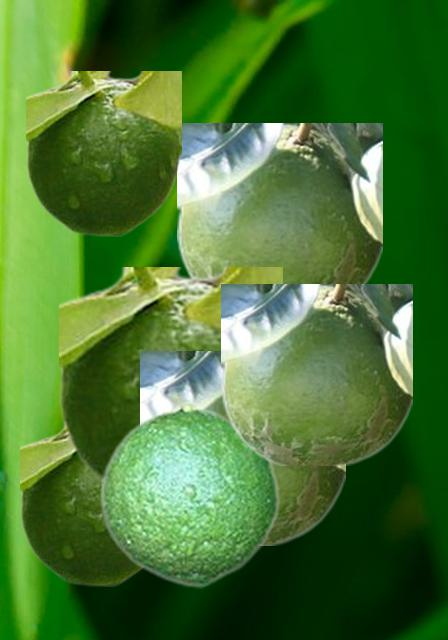dalandan: (59, 267, 281, 482), (140, 351, 344, 544), (221, 284, 411, 464), (98, 400, 279, 587), (177, 123, 381, 283), (26, 71, 180, 235), (20, 421, 143, 585)
